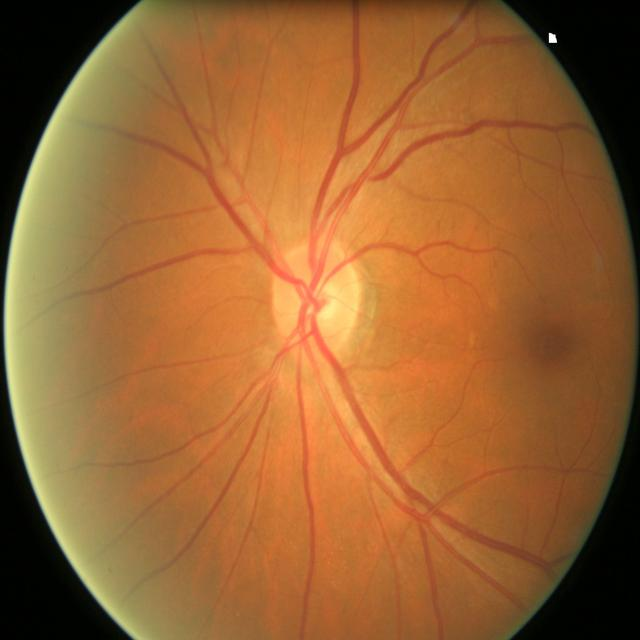OC: (307, 283, 337, 321)
OD: (272, 244, 356, 348)
